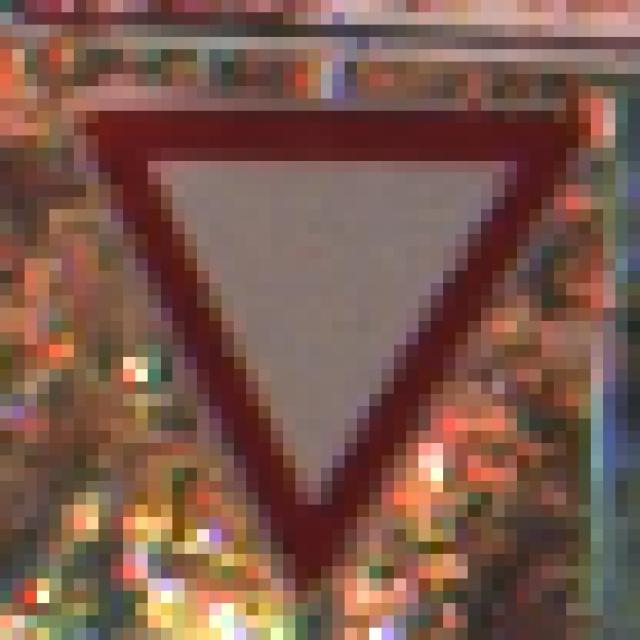Give Way: (49, 86, 591, 591)
